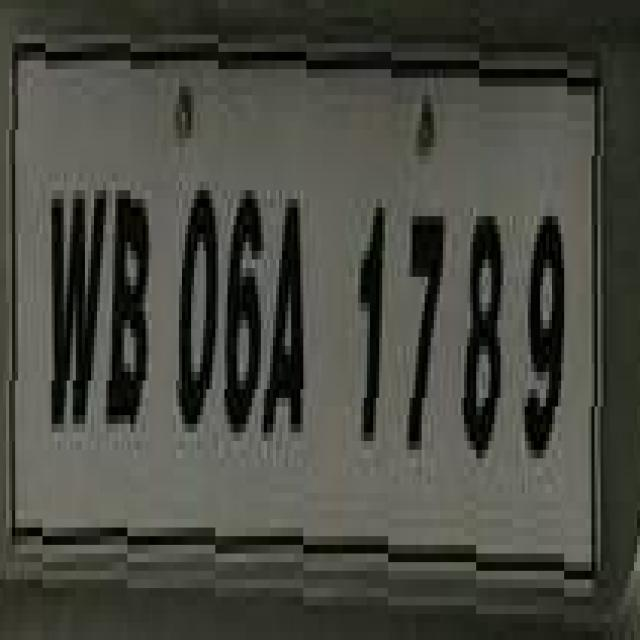license_plate: (0, 26, 610, 571)
